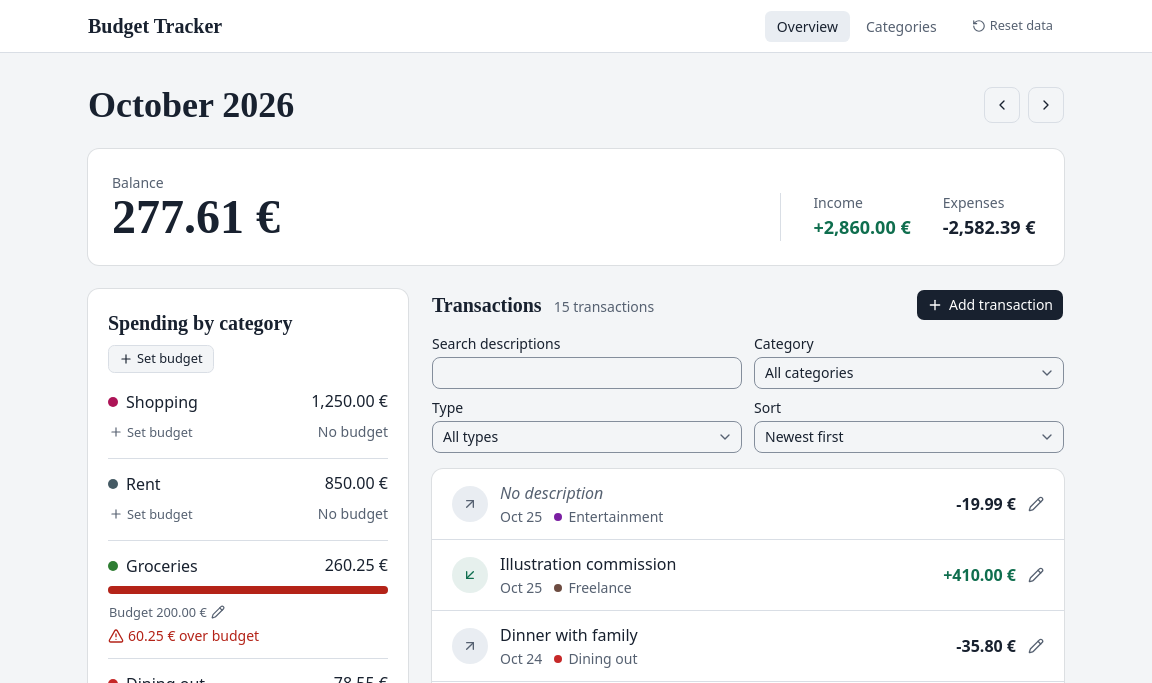
Scenario: changing a budget › saves the new amount for the same category
The width and height of the screenshot is (1152, 683).
Click the button with aria-label "Change Groceries budget, 200.00 €" at (167, 612), box [98, 598, 236, 626]
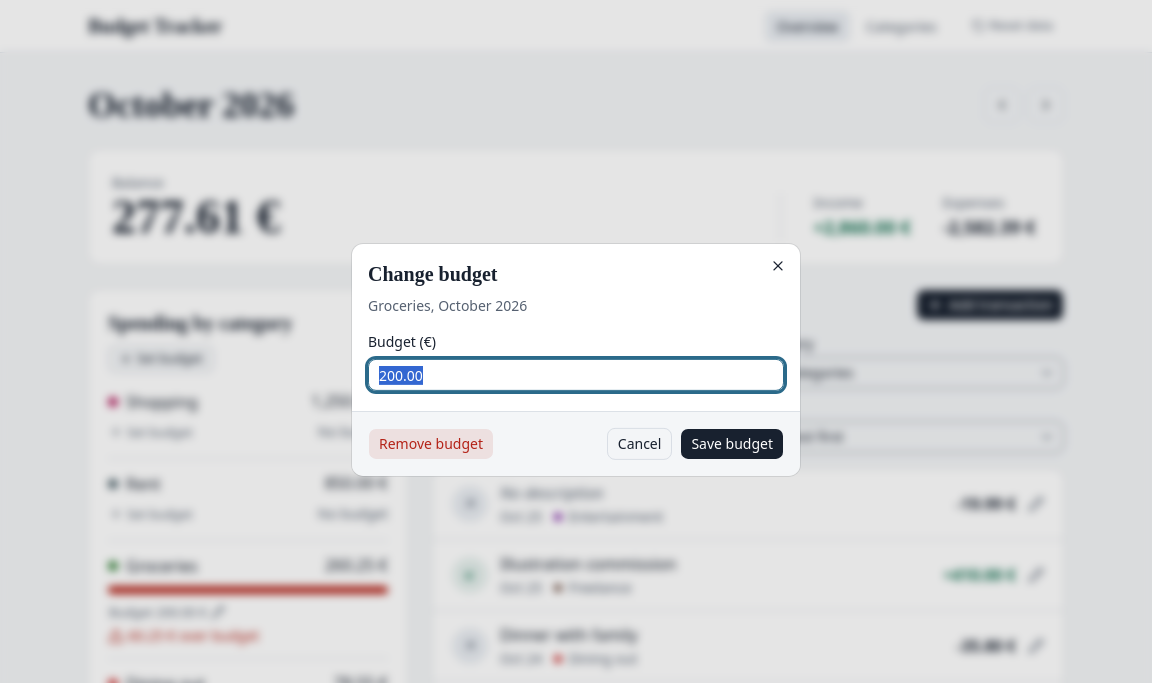
Expected: the text "Groceries, October 2026" is shown, [368, 296, 527, 315]
Expected: the field labelled "Budget (€)" holds "200.00"
Replace the text in the field labelled "Budget (€)" with "300" at (576, 375), box [368, 359, 784, 391]
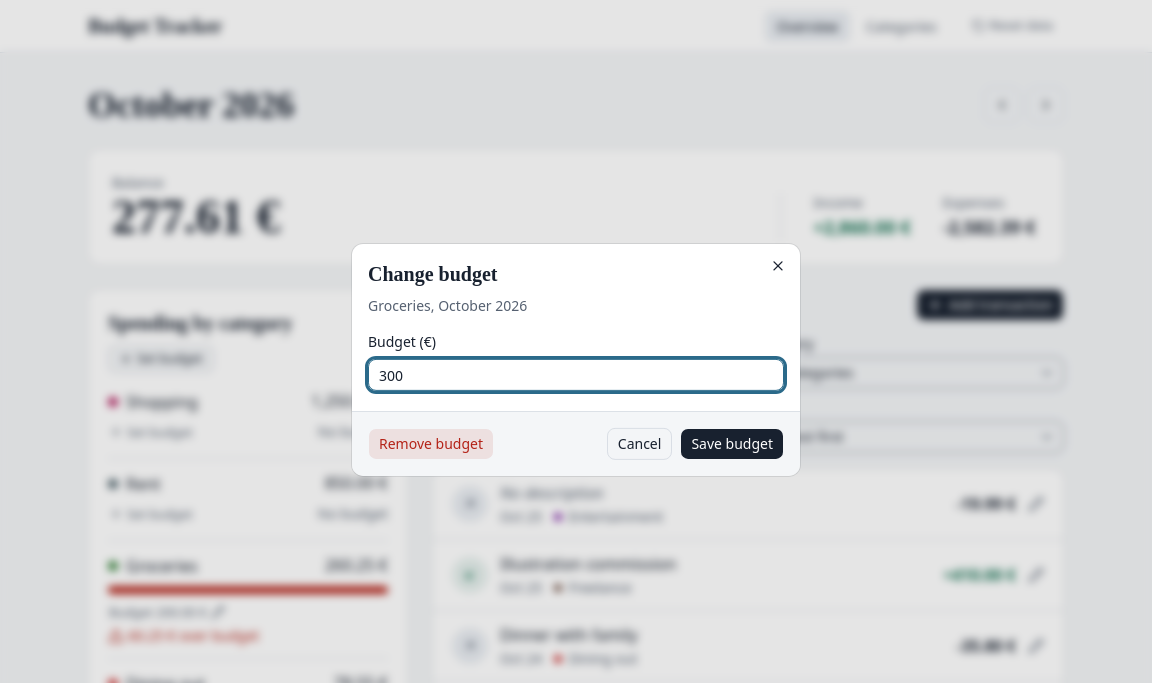
Click the button "Save budget" at (732, 444), box [680, 428, 784, 460]
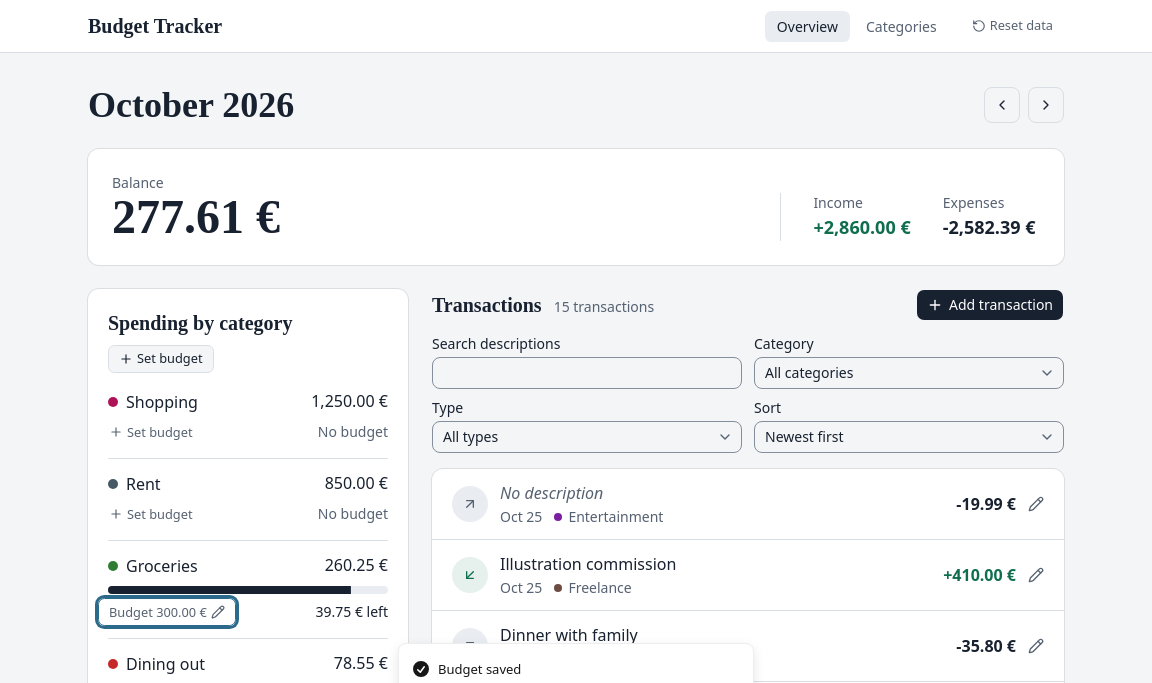
Expected: the text "Budget saved" is shown, [438, 660, 521, 679]
Expected: the text "39.75 € left" is shown, [316, 602, 388, 622]
